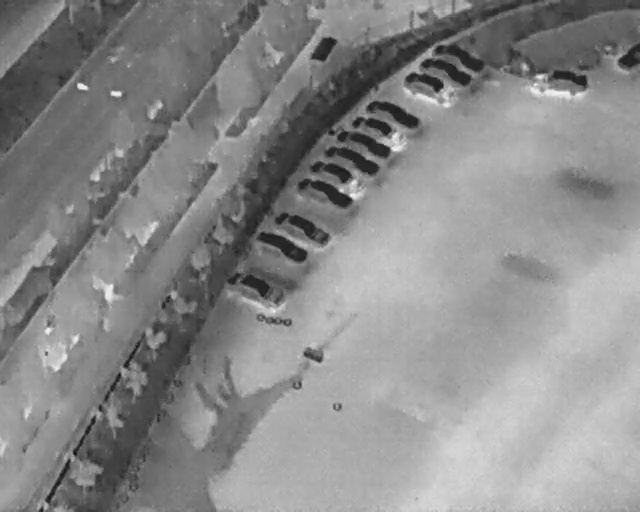Car: (291, 167, 361, 218), (222, 262, 290, 313), (397, 63, 461, 115), (270, 203, 336, 252), (248, 222, 313, 269), (319, 135, 383, 182), (363, 91, 426, 136), (348, 107, 412, 151), (429, 34, 491, 79), (304, 151, 365, 196), (416, 47, 477, 91), (334, 122, 393, 164), (529, 68, 591, 97), (617, 42, 639, 73)
